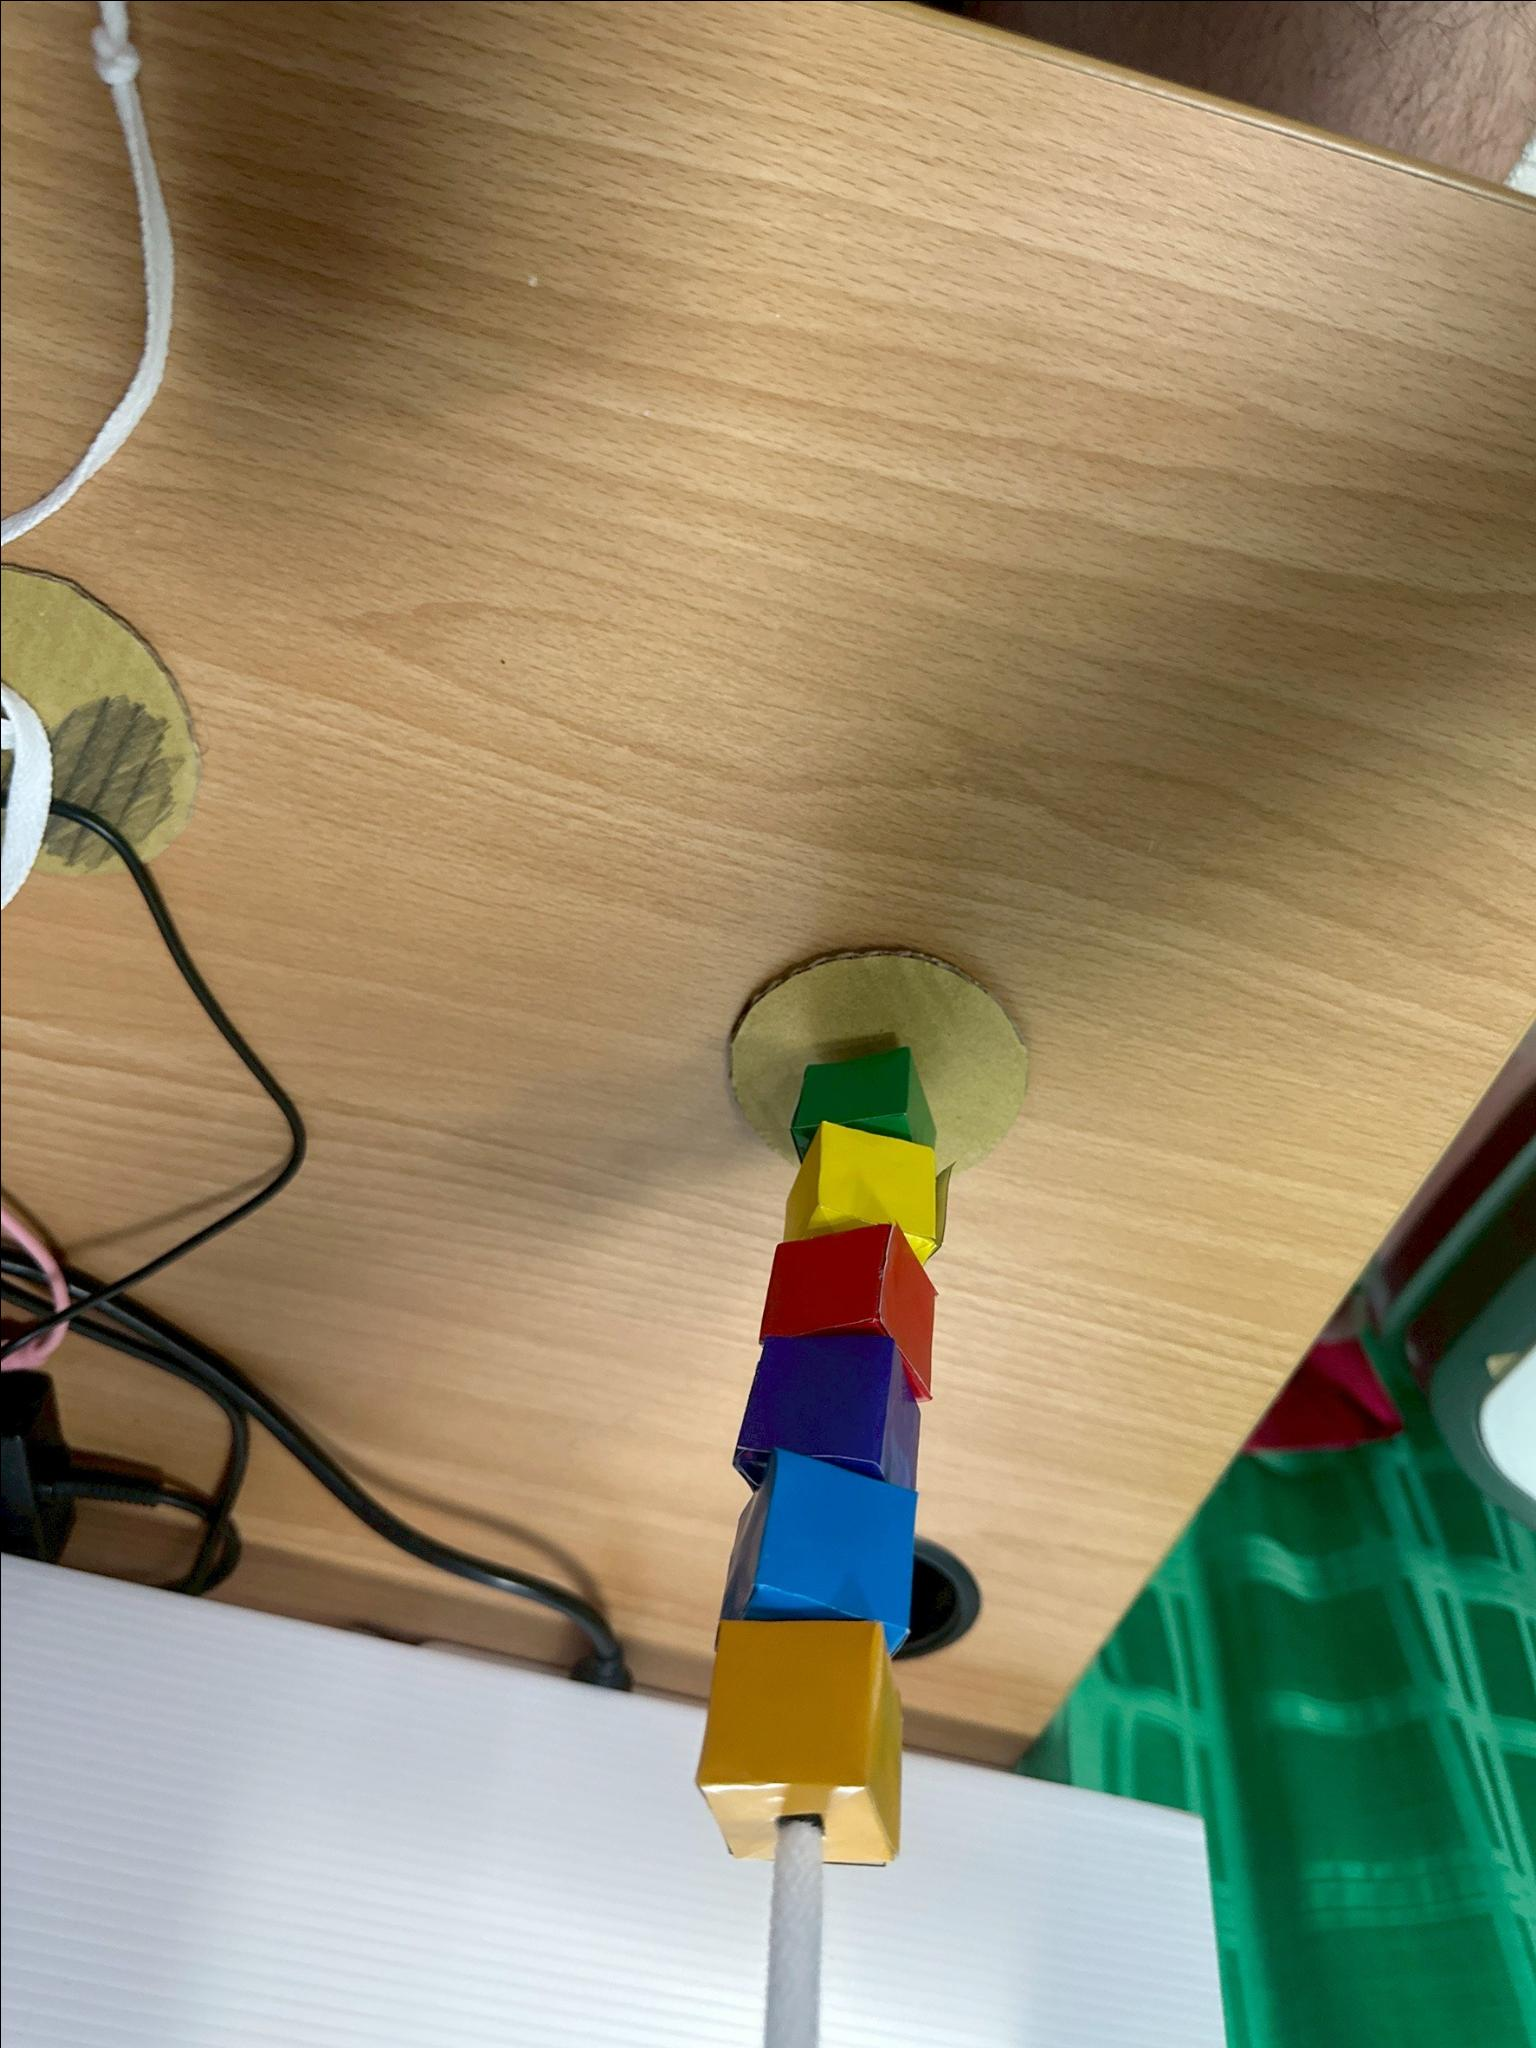base: (729, 949, 1027, 1172)
